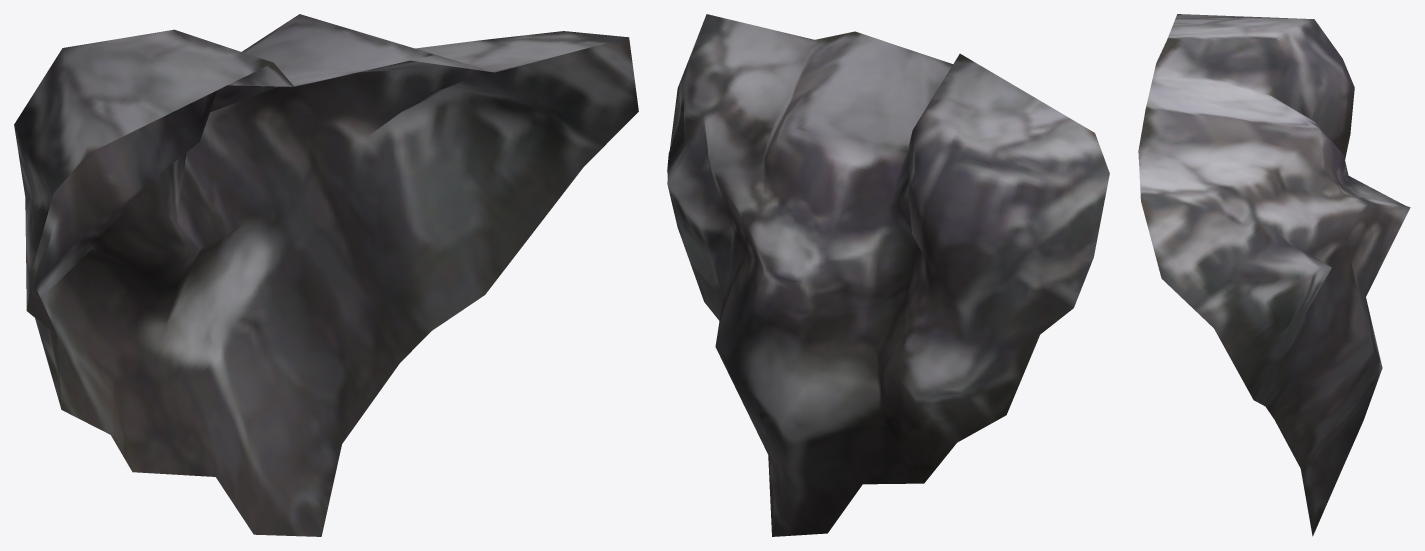
The model's file is rzjd_shitoushan_02.FBX.
3 views of the same model, side by side, from view 1: azimuth 30°, elevation 25°; view 2: azimuth 150°, elevation 25°; view 3: azimuth 270°, elevation 25° (orthographic). The views are drawn at different scales.
Visible parts, largest first — view 1: rzjd_shitoushan_02; view 2: rzjd_shitoushan_02; view 3: rzjd_shitoushan_02.
Part boxes in pixels (x1=…): rzjd_shitoushan_02: x1=14, y1=14, x2=638, y2=536; rzjd_shitoushan_02: x1=667, y1=14, x2=1109, y2=536; rzjd_shitoushan_02: x1=1138, y1=14, x2=1410, y2=536.
Size of the model in its own units: 498 by 270 by 485.
